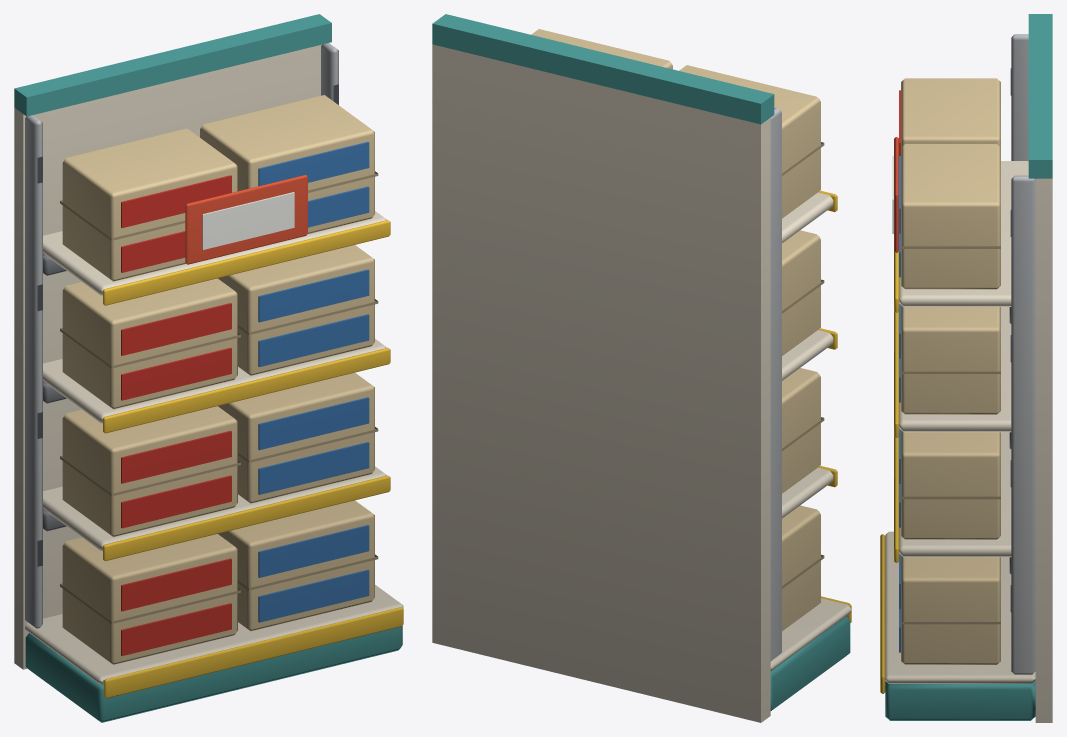
File: Gondola_EndCap_10_Stocked.glb
The picture shows the model from 3 angles, left to right: view 1: azimuth 30°, elevation 25°; view 2: azimuth 150°, elevation 25°; view 3: azimuth 270°, elevation 25°; orthographic projection. The views are drawn at different scales.
Parts seen in each view (by area): view 1: SM_Gondola_EndCap_10_Stocked; view 2: SM_Gondola_EndCap_10_Stocked; view 3: SM_Gondola_EndCap_10_Stocked.
Boxes of the visible parts, x1,y1,x2,y2 form: SM_Gondola_EndCap_10_Stocked: (14, 14, 403, 722); SM_Gondola_EndCap_10_Stocked: (432, 14, 851, 722); SM_Gondola_EndCap_10_Stocked: (880, 14, 1052, 722).
Bounding box in the file's own units: 1 × 1.8 × 0.5.
Materials: 1 (1 with a texture image).
